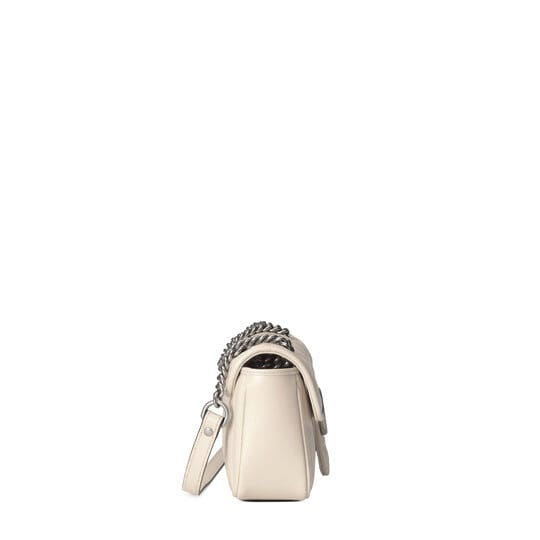Gucci: (185, 321, 330, 499)
